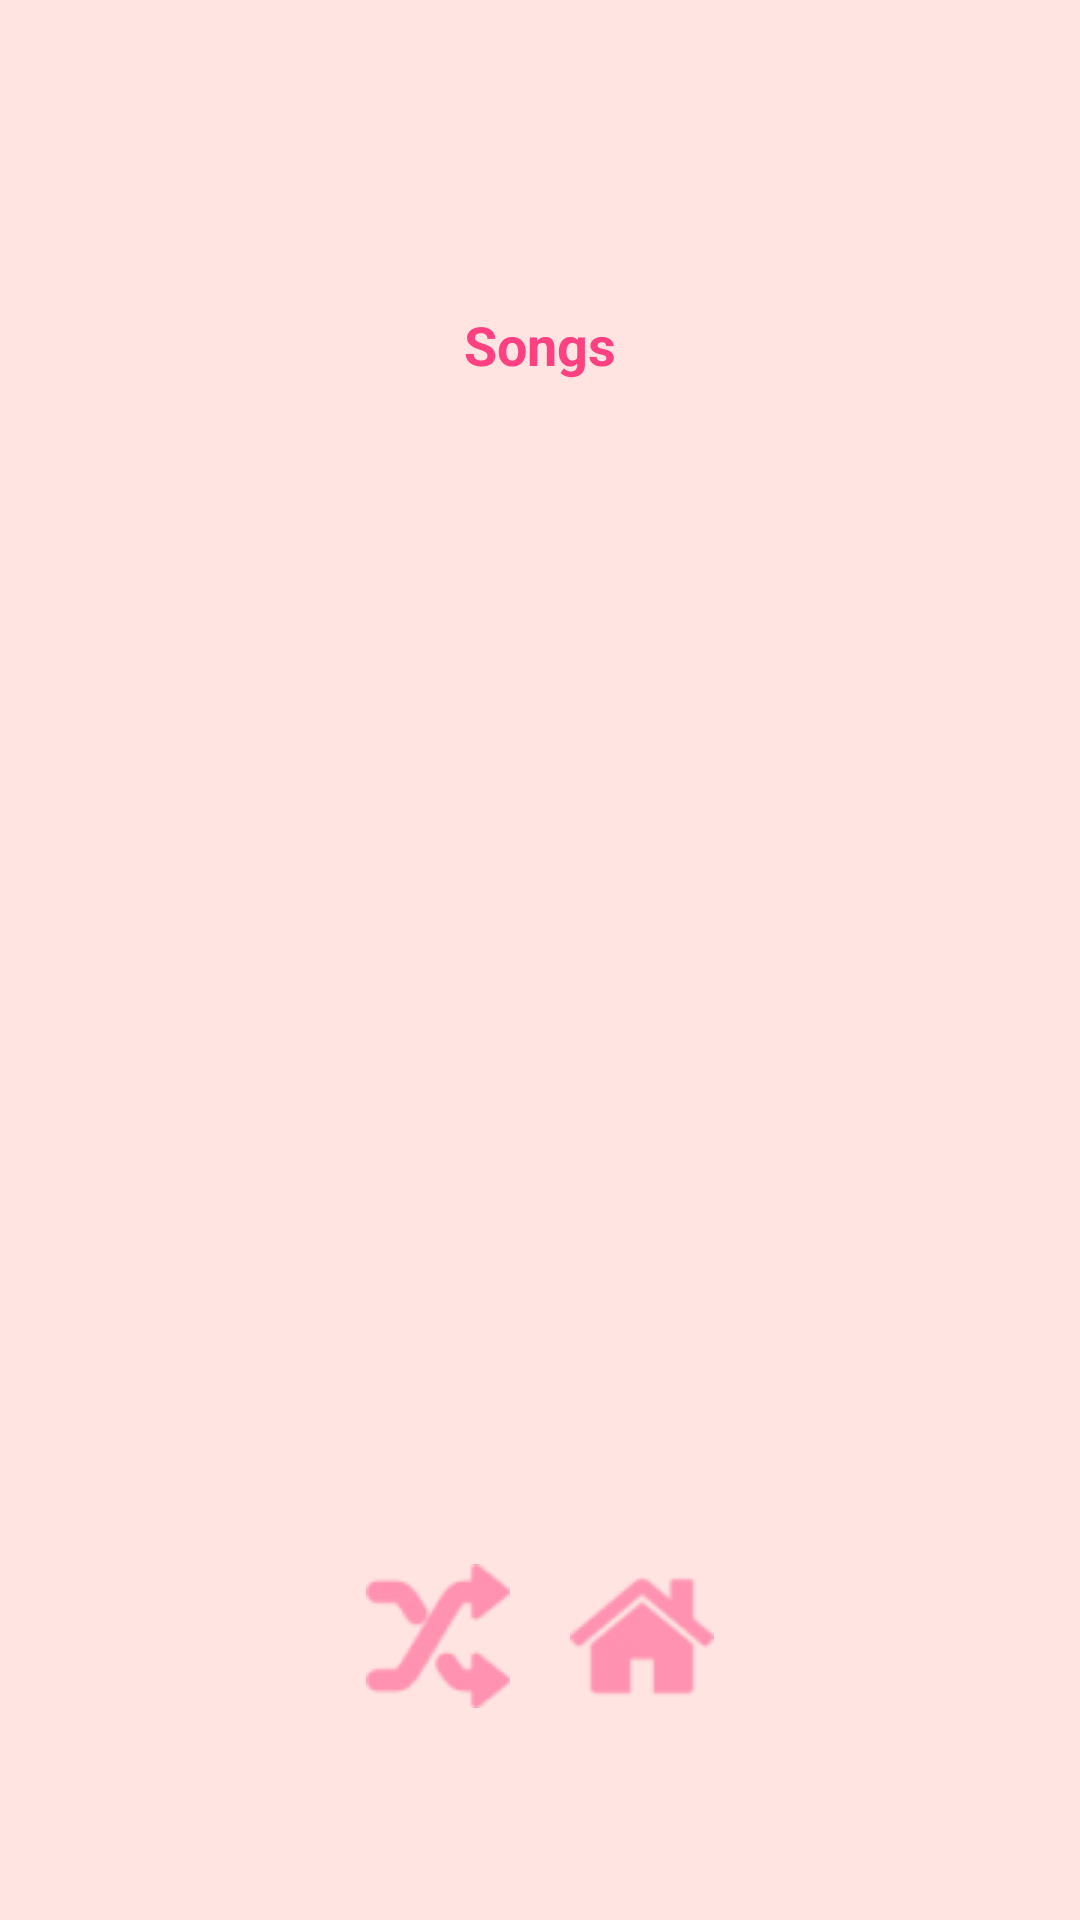

Where icons sit on this 1080 x 1920 app screen, as (x1, y1, x2, y2):
home: (570, 1578, 714, 1694)
shuffle: (366, 1564, 510, 1708)
